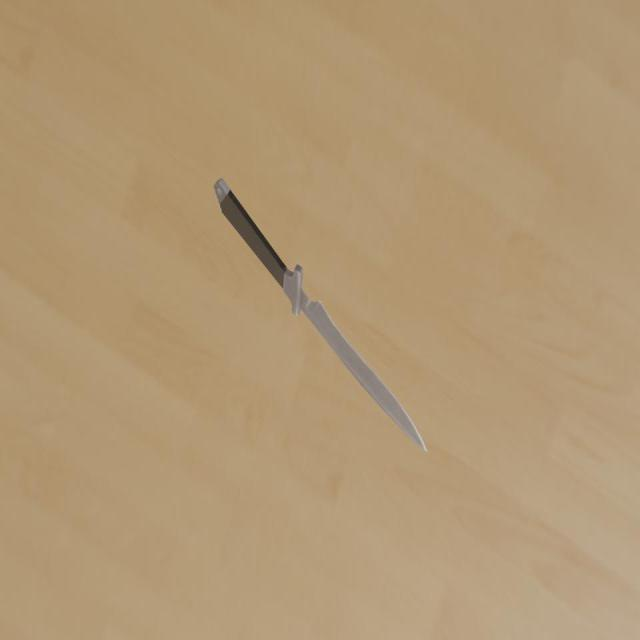knife: (214, 180, 287, 288)
